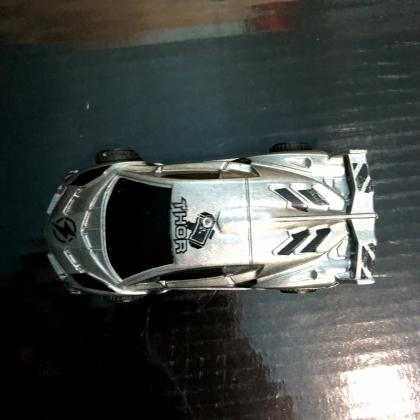Car: (43, 149, 378, 304)
